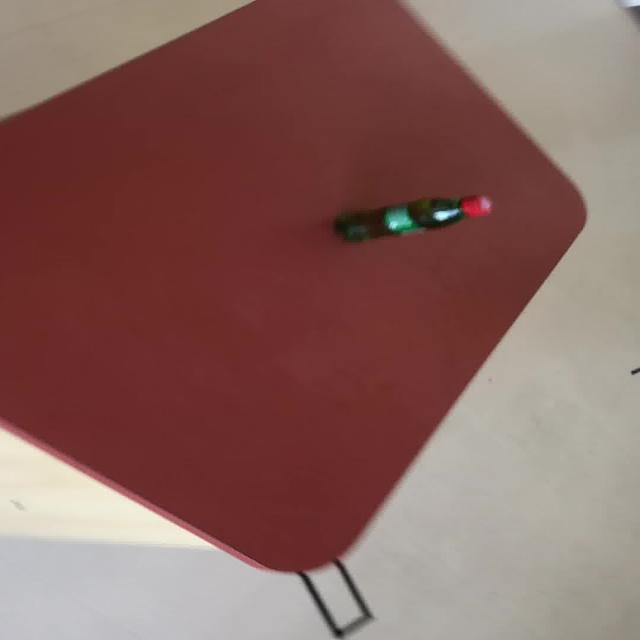guarana: (331, 192, 493, 243)
